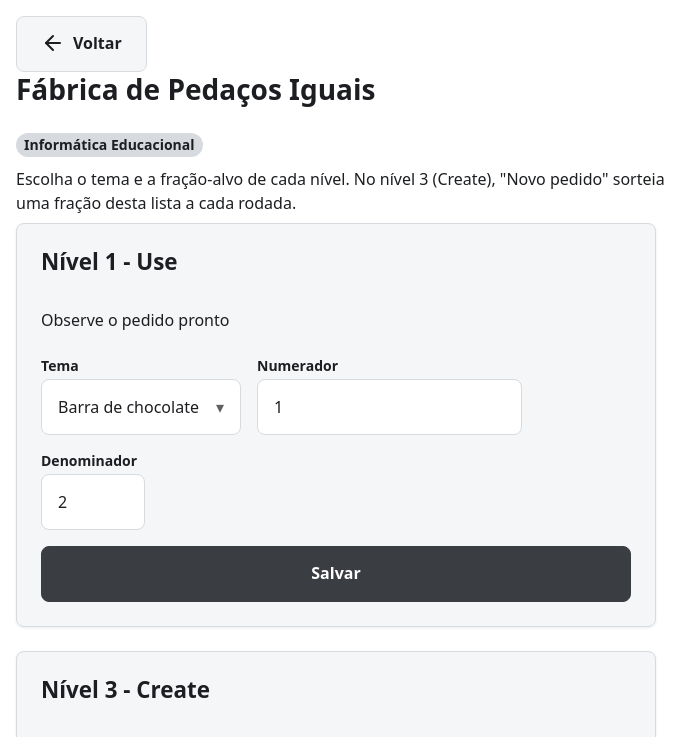
TeacherMiniGameSettings › loads the levels and saves an edited target fraction for the Use level
The width and height of the screenshot is (681, 737).
Expected: the text "Observe o pedido pronto" is shown, [41,309,230,331]
Replace the text in the number field labelled "Denominador" with "4" at (93, 502), box [41,474,145,530]
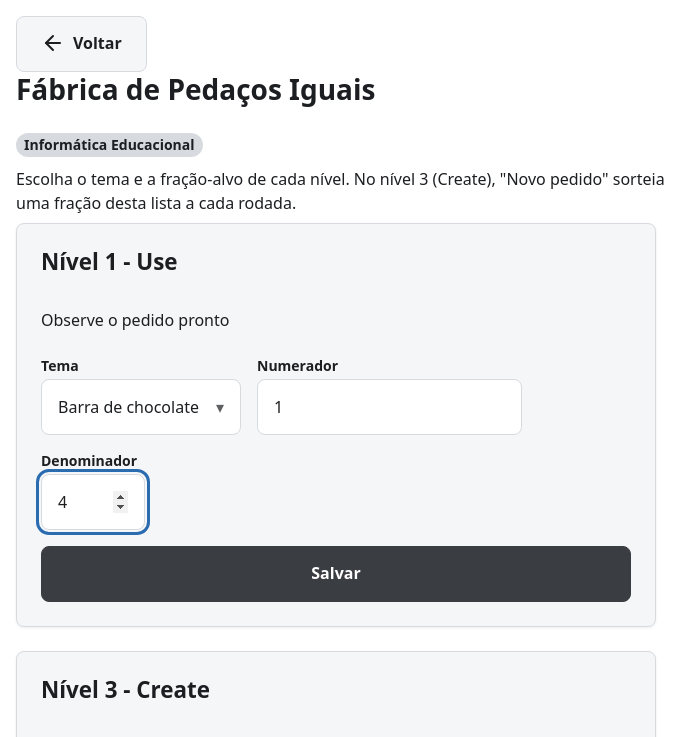
Click the button "Salvar".
click(336, 574)  # box [41,546,631,602]
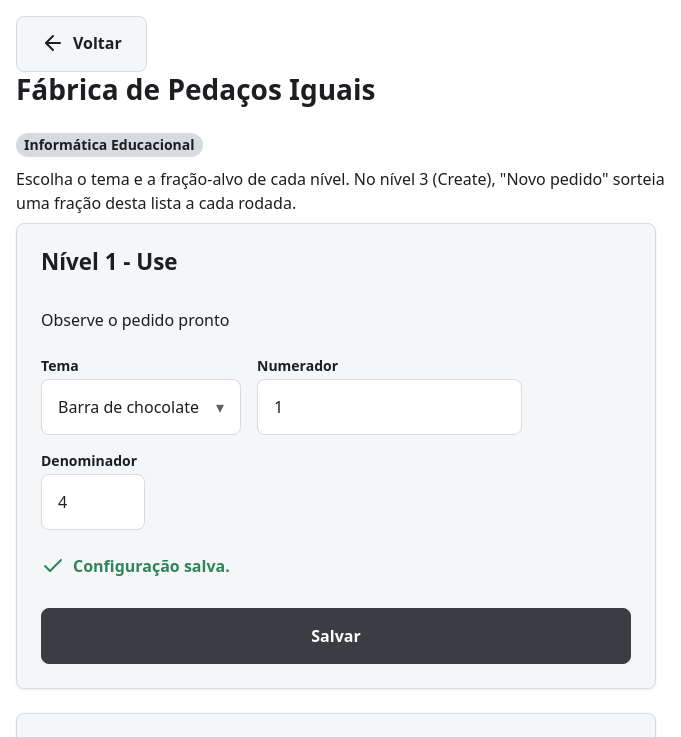
Now the text "Configuração salva." is shown, box [73,554,230,578]
